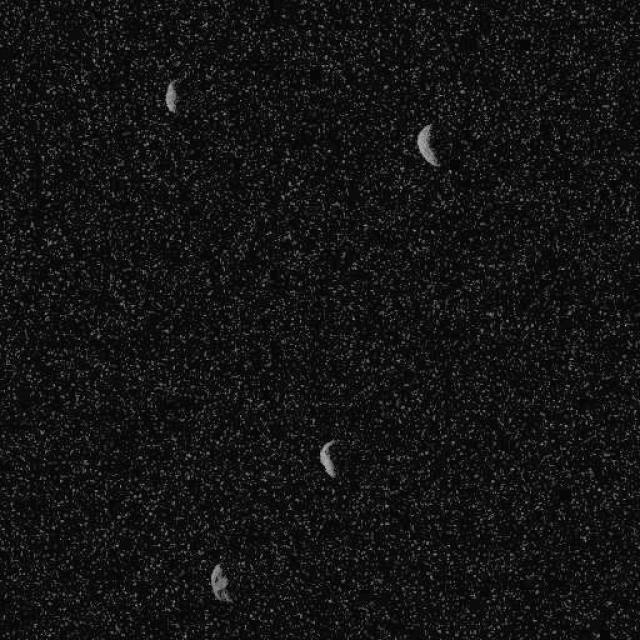D2: (415, 121, 441, 168), (208, 561, 232, 604), (318, 438, 338, 478), (164, 78, 178, 114)
